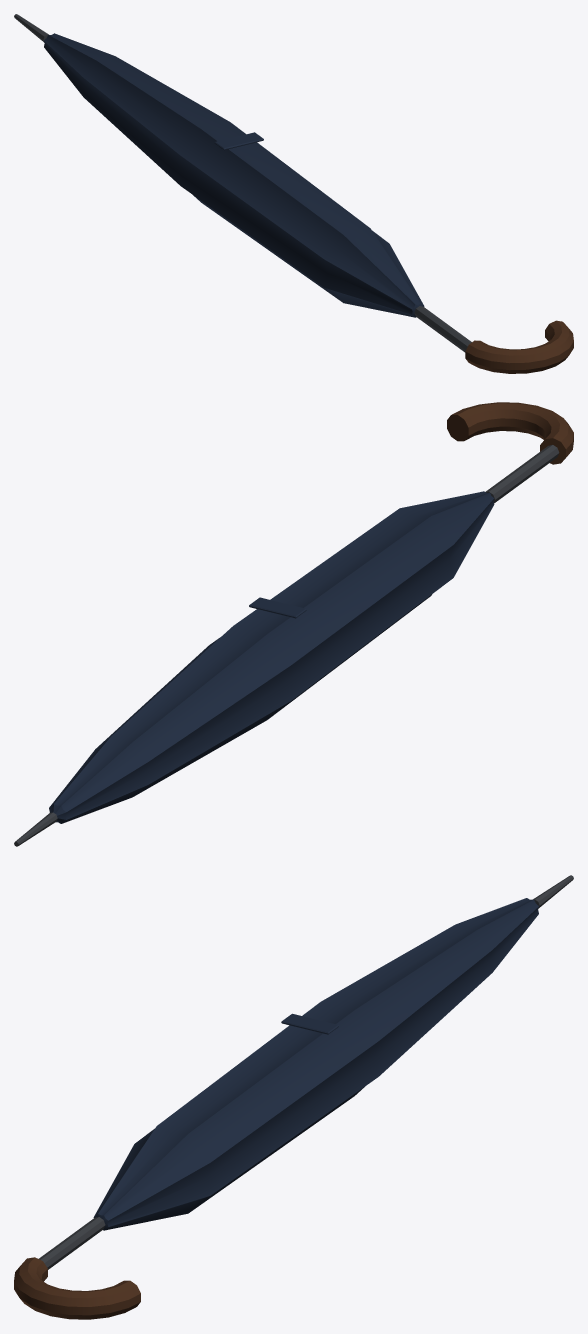
File: umbrella.glb
3 renders of one model, top to bottom at view 1: azimuth 30°, elevation 25°; view 2: azimuth 150°, elevation 25°; view 3: azimuth 330°, elevation 25°, orthographic. The views are drawn at different scales.
Visible parts, largest first — view 1: umbrella; view 2: umbrella; view 3: umbrella.
Part boxes in pixels (x1,y1,x2,y2): umbrella: [14, 14, 573, 373]; umbrella: [14, 402, 573, 846]; umbrella: [14, 875, 573, 1319].
Size of the model in its own units: 0.09 by 0.0517 by 0.6001.
